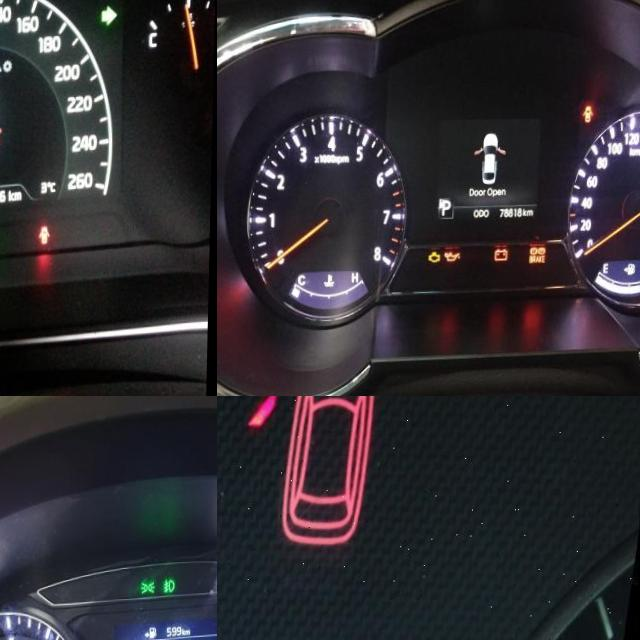FrontFogLight: (163, 581, 176, 596)
SideLamp: (140, 583, 156, 598)
